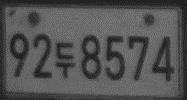2: (30, 32, 54, 79)
4: (152, 36, 176, 81)
5: (104, 34, 126, 79)
7: (127, 34, 151, 81)
8: (79, 34, 102, 79)
9: (9, 32, 29, 78)
두: (54, 40, 75, 80)
